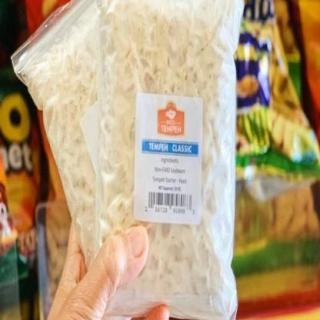Tempe: (14, 1, 252, 319)
